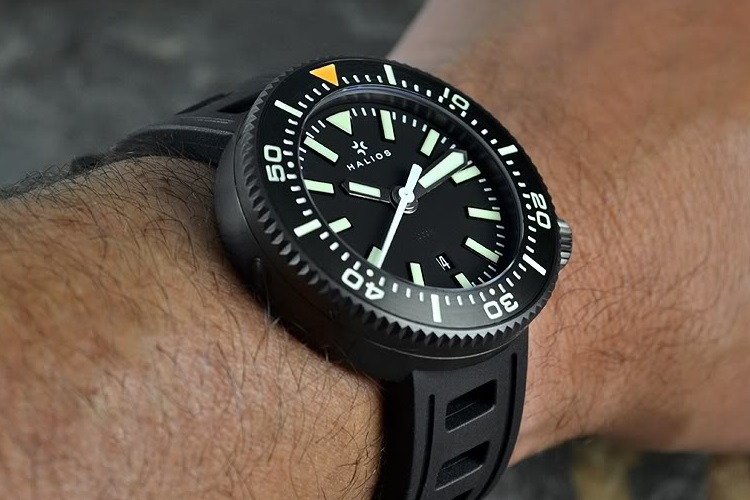clock: (233, 55, 564, 363)
